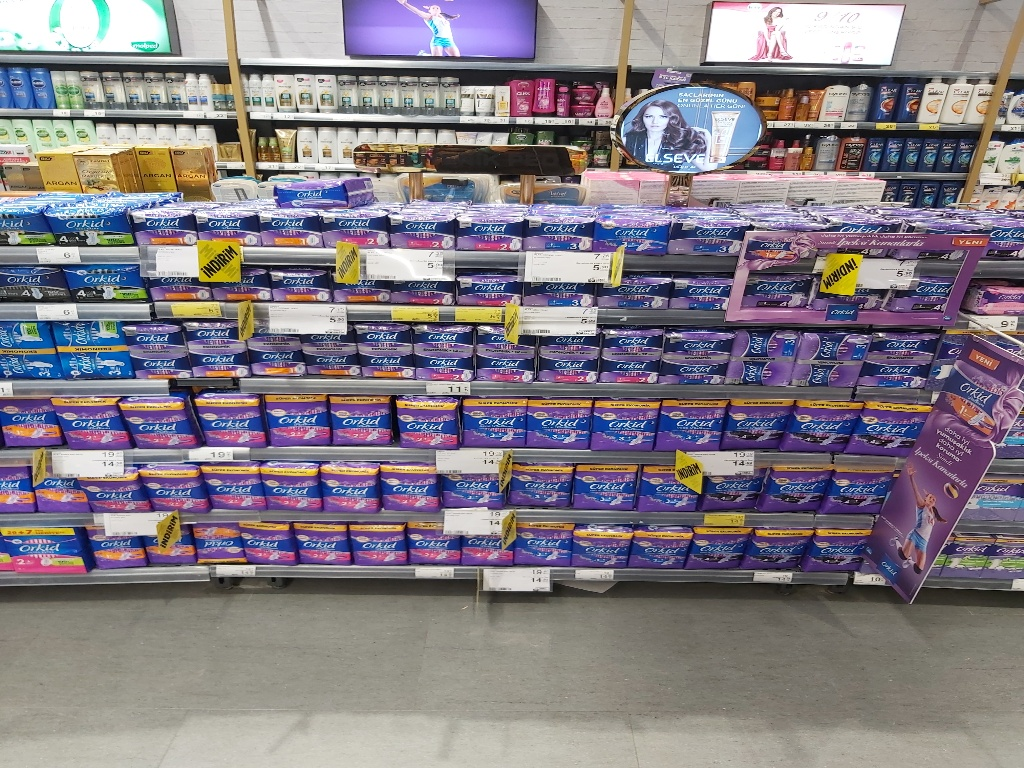urun: (1, 516, 84, 577), (262, 393, 339, 453), (389, 394, 466, 454), (125, 392, 201, 452), (192, 388, 268, 448), (323, 387, 399, 447), (522, 394, 594, 457), (593, 394, 664, 457), (460, 396, 531, 458), (657, 398, 730, 457), (719, 398, 792, 457), (785, 398, 858, 457), (852, 399, 925, 458), (140, 453, 209, 513), (504, 457, 577, 513), (573, 461, 646, 517), (434, 457, 508, 512), (639, 460, 708, 515), (695, 462, 764, 517), (762, 462, 831, 517), (46, 315, 138, 356), (379, 207, 461, 253), (31, 457, 97, 513), (58, 396, 123, 452), (265, 174, 347, 218), (58, 264, 151, 302), (198, 462, 260, 516), (380, 458, 442, 512), (259, 457, 320, 511), (826, 466, 887, 520), (87, 457, 142, 516), (320, 456, 381, 509), (452, 211, 530, 252), (521, 210, 599, 251), (588, 216, 666, 257), (666, 214, 744, 255), (346, 517, 406, 570), (403, 518, 463, 571), (188, 202, 259, 246), (253, 207, 324, 251), (321, 207, 392, 251), (86, 518, 146, 570), (127, 206, 197, 250), (1, 396, 58, 448), (521, 516, 577, 568), (239, 518, 294, 570), (138, 517, 196, 566), (293, 515, 348, 566), (795, 358, 867, 396), (457, 522, 515, 568), (723, 356, 795, 393), (726, 332, 809, 364), (795, 333, 878, 365), (859, 333, 942, 365), (630, 527, 691, 570), (572, 525, 634, 567), (751, 530, 814, 571), (694, 529, 755, 571), (812, 530, 874, 571), (861, 361, 932, 393), (353, 317, 417, 352), (186, 346, 253, 379), (195, 524, 243, 570), (303, 346, 367, 380), (417, 321, 481, 355), (361, 343, 425, 376), (415, 346, 479, 379), (470, 347, 534, 380), (535, 347, 599, 380), (591, 348, 655, 381), (664, 352, 728, 385), (132, 319, 189, 355), (186, 319, 253, 349), (600, 326, 662, 358), (659, 332, 727, 361), (251, 346, 306, 376), (133, 352, 191, 376)
urun2: (46, 201, 134, 251)
